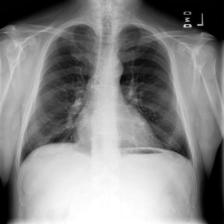normal: (16, 18, 196, 171)
